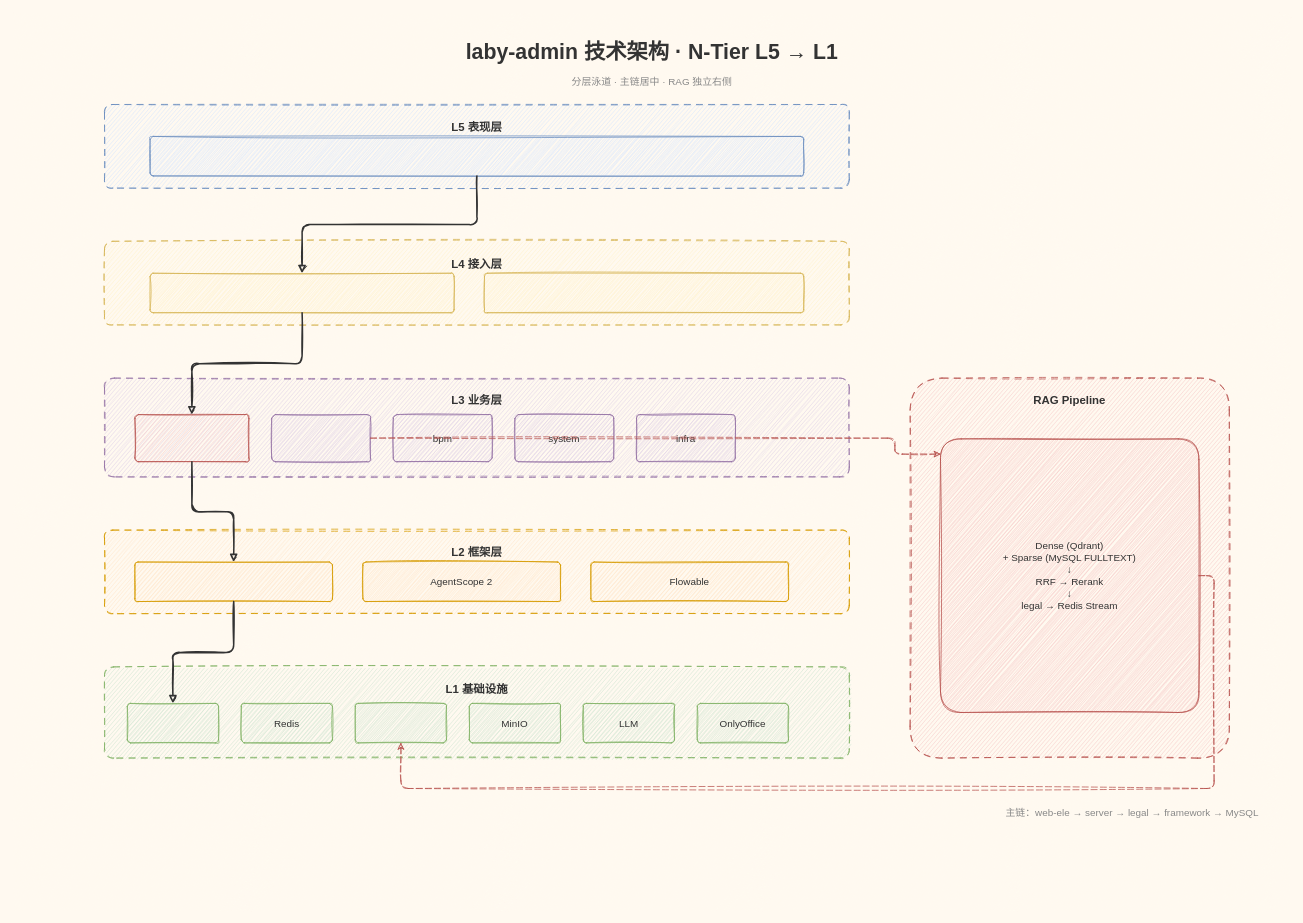
Some shapes in this 1303 by 923 pixel diagram are drawn without their labels. The centre of each missing label's shape, as x and y in pixels:
"ai" belongs at pixel 320 438.
"laby-framework" belongs at pixel 233 581.
"laby-server · REST / SSE" belongs at pixel 301 292.
"legal ★" belongs at pixel 191 438.
"MySQL" belongs at pixel 172 723.
"Qdrant" belongs at pixel 400 723.
"Security · OAuth2 · Tenant" belongs at pixel 644 292.
"web-ele · Vue3 Vben · 合同审核 UI" belongs at pixel 476 156.
